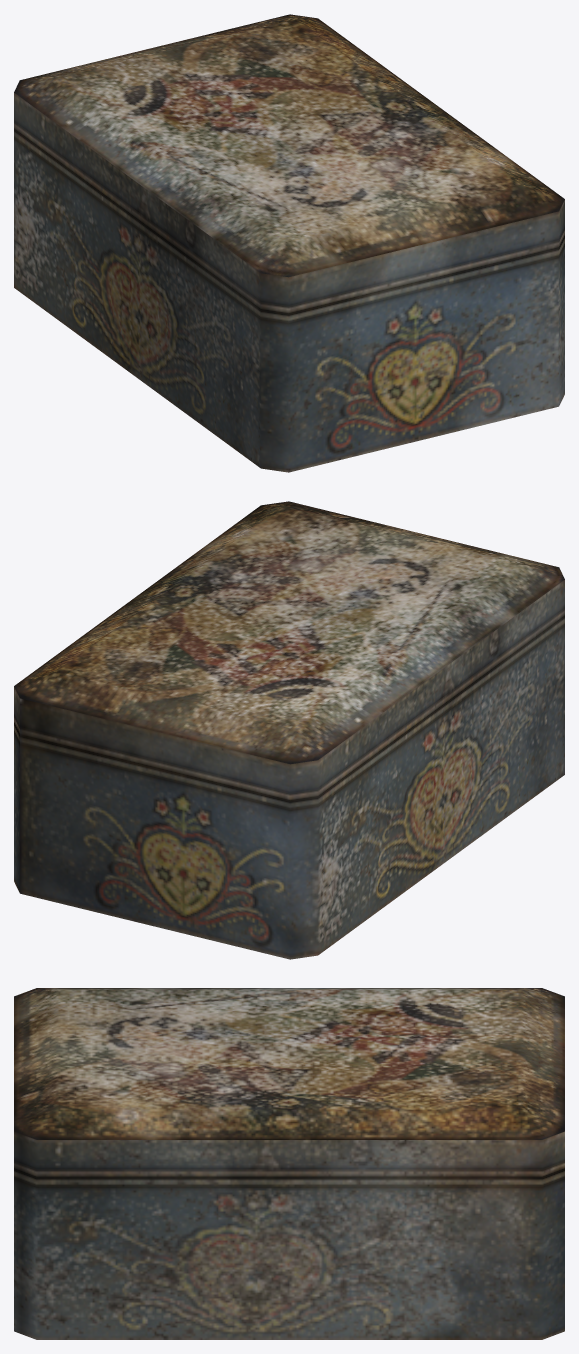
Rendered from sugar_box.FBX.
3 renders of one model, top to bottom at view 1: azimuth 30°, elevation 25°; view 2: azimuth 150°, elevation 25°; view 3: azimuth 270°, elevation 25°, orthographic. The views are drawn at different scales.
Visible parts, largest first — view 1: sugar_box; view 2: sugar_box; view 3: sugar_box.
Part boxes in pixels (x1,y1,x2,y2): sugar_box: (14,14,564,472); sugar_box: (14,501,564,959); sugar_box: (14,988,564,1339).
Size of the model in its own units: 0.1267 by 0.0833 by 0.1942.
